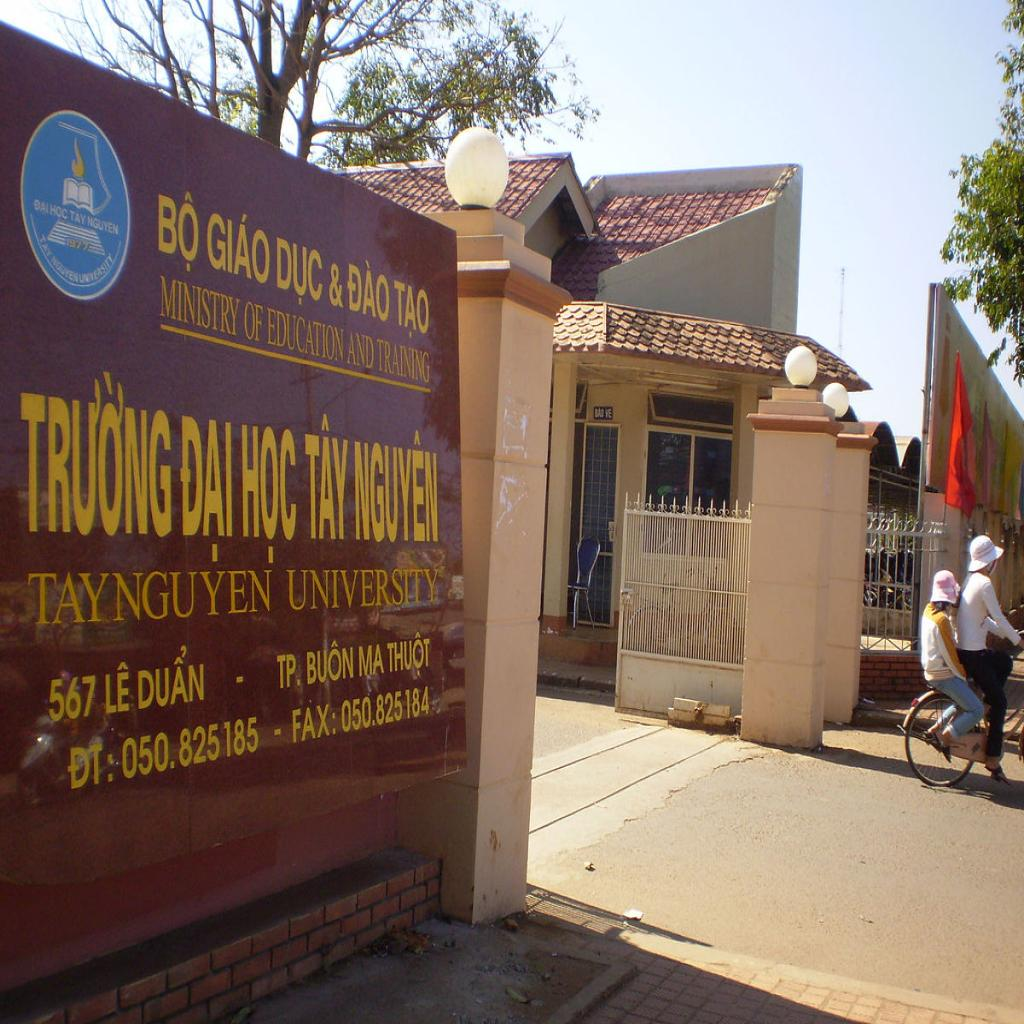text: (15, 366, 176, 543), (25, 568, 275, 629), (352, 418, 440, 548), (120, 714, 261, 782), (178, 411, 236, 564), (239, 422, 299, 568), (283, 567, 442, 612), (304, 412, 351, 543), (206, 203, 271, 288), (158, 274, 241, 338), (135, 642, 207, 714), (340, 684, 434, 736), (266, 306, 346, 364), (157, 179, 200, 276), (277, 235, 325, 313), (346, 255, 391, 326), (45, 670, 99, 726), (375, 337, 432, 386), (65, 739, 114, 793), (304, 636, 355, 686), (394, 278, 432, 344), (385, 629, 432, 681), (290, 701, 338, 746), (102, 661, 132, 718), (79, 248, 116, 294), (272, 650, 303, 693), (348, 329, 376, 372), (47, 255, 79, 289), (242, 299, 266, 344), (326, 259, 346, 312), (359, 643, 387, 679), (86, 215, 120, 237), (38, 230, 56, 260), (65, 236, 92, 254), (50, 202, 69, 224), (68, 208, 88, 227), (32, 198, 50, 217), (233, 673, 247, 687), (594, 408, 606, 420), (272, 727, 284, 738)
